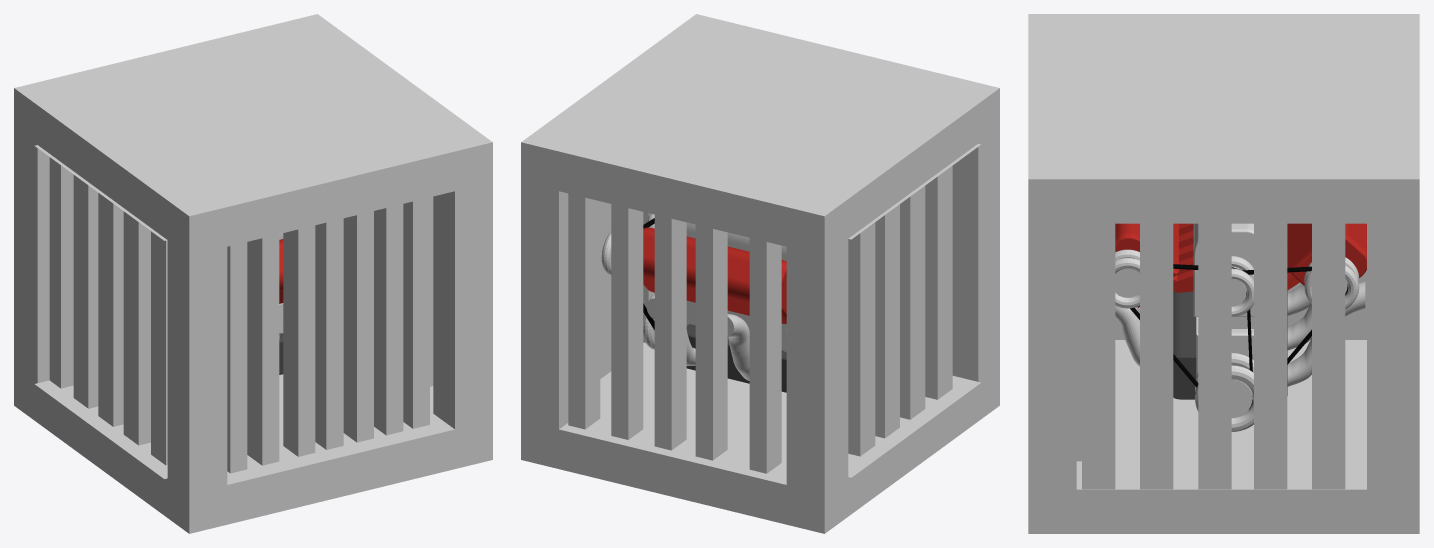
Rendered from __generator.fbx.
3 views of the same model, side by side, from view 1: azimuth 30°, elevation 25°; view 2: azimuth 150°, elevation 25°; view 3: azimuth 270°, elevation 25° (orthographic). The views are drawn at different scales.
Parts seen in each view (by area): view 1: Cube, Куб.026, Двигатель; view 2: Cube, Куб.026, Двигатель; view 3: Cube, Куб.026, Двигатель.
Boxes of the visible parts, <box> form: Cube: <box>14,14,492,533</box>; Куб.026: <box>49,157,433,473</box>; Двигатель: <box>279,233,283,374</box>; Cube: <box>521,14,999,533</box>; Куб.026: <box>568,166,952,473</box>; Двигатель: <box>601,213,786,392</box>; Cube: <box>1028,14,1419,533</box>; Куб.026: <box>1076,223,1366,489</box>; Двигатель: <box>1115,223,1366,431</box>.
Size of the model in its own units: 479 by 474 by 474.
